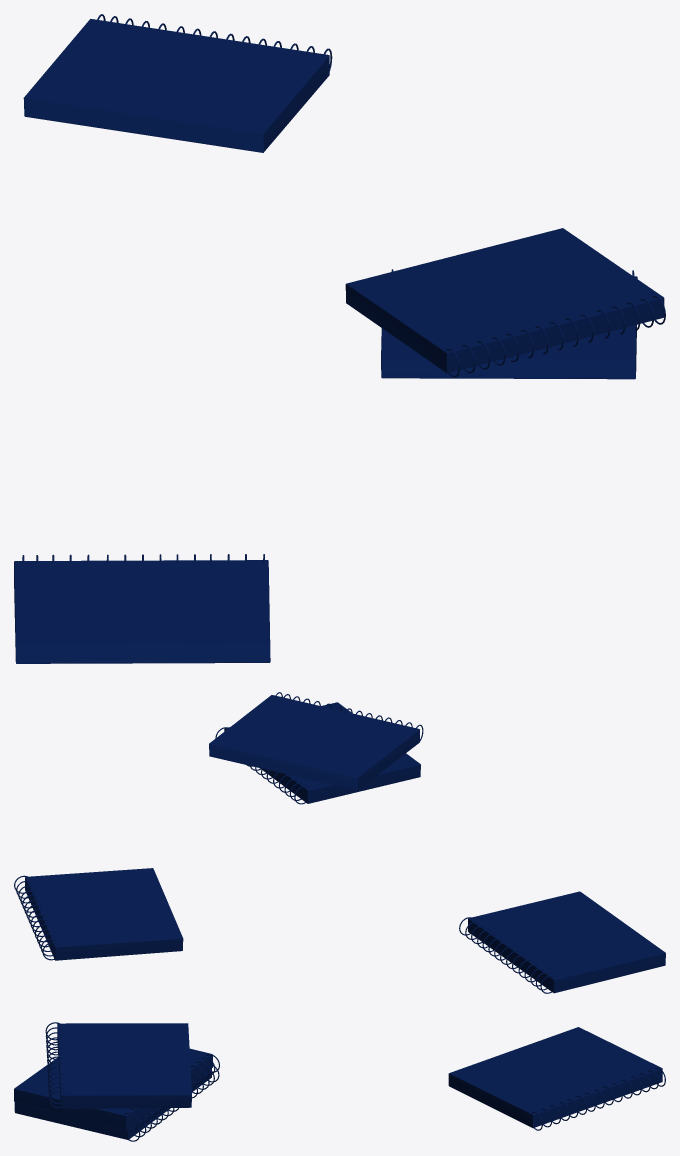
File: Extra Sketchbooks.fbx
3 renders of one model, top to bottom at view 1: azimuth 30°, elevation 25°; view 2: azimuth 150°, elevation 25°; view 3: azimuth 270°, elevation 25°, orthographic. The views are drawn at different scales.
Parts seen in each view (by area): view 1: pCube1 (×4), pTorus16; view 2: pCube1 (×4), pTorus16 (×2); view 3: pCube1 (×4), pTorus16 (×4).
Boxes of the visible parts, left/top/right/bottom form: pCube1 (×4): left=14, top=19, right=664, bottom=663; pTorus16: left=447, top=296, right=665, bottom=377; pCube1 (×4): left=25, top=695, right=665, bottom=993; pTorus16 (×2): left=14, top=875, right=554, bottom=993; pCube1 (×4): left=14, top=1023, right=662, bottom=1139; pTorus16 (×4): left=45, top=1022, right=665, bottom=1141.
Size of the model in its own units: 40.17 by 14.33 by 52.29.
